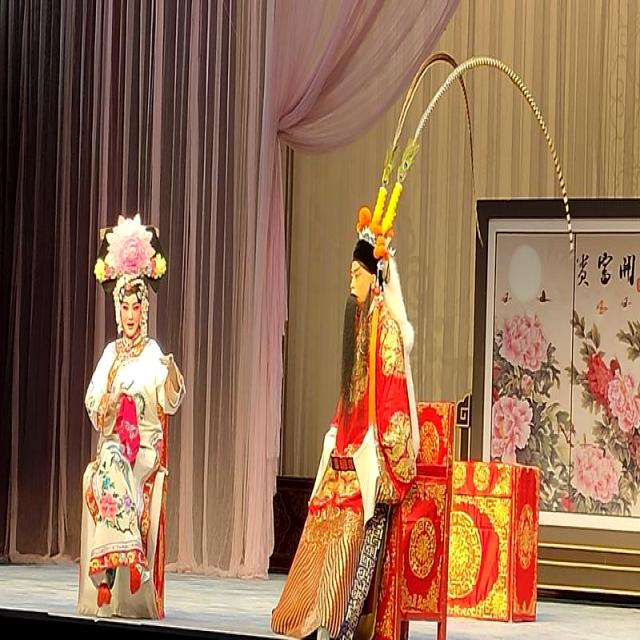Reeves-s Pheasant: (392, 54, 575, 260)
